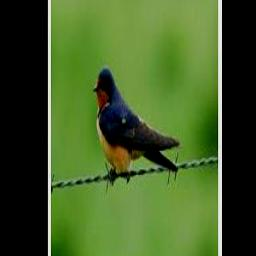Swallow: (93, 67, 180, 175)
